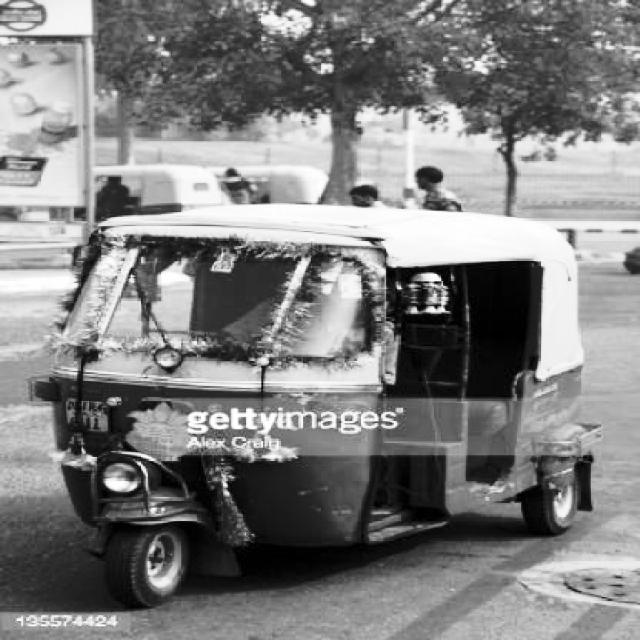Auto-Rickshaw: (49, 205, 604, 596)
